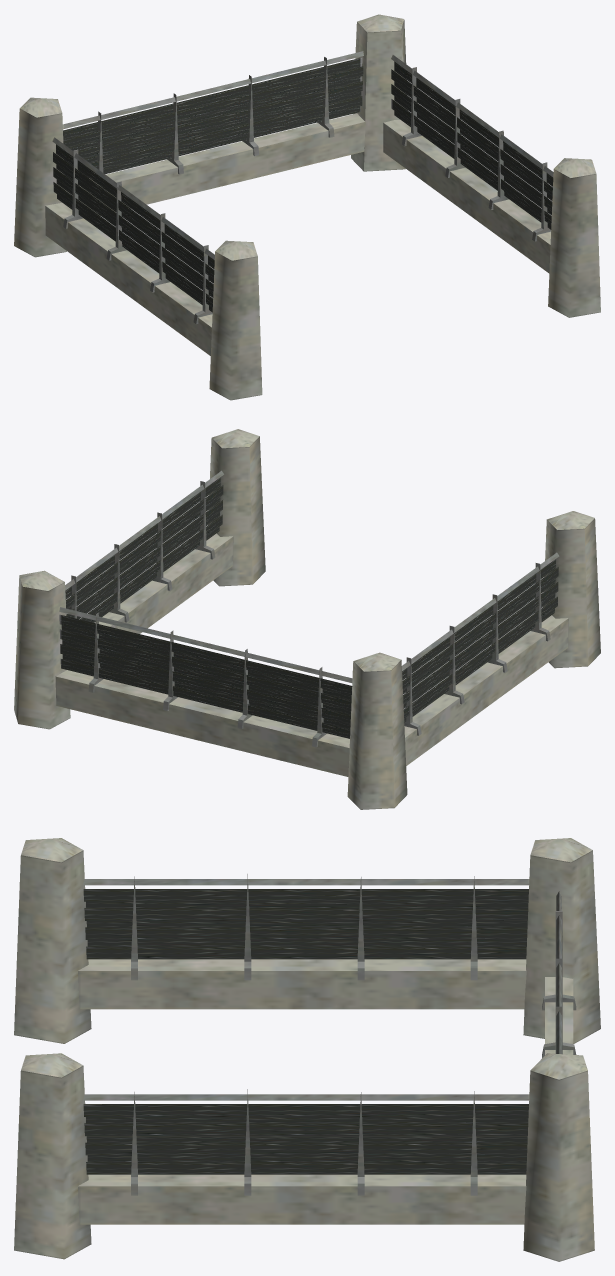
File: poi_all_corral_half_32x32_s05_l1.fbx
3 renders of one model, top to bottom at view 1: azimuth 30°, elevation 25°; view 2: azimuth 150°, elevation 25°; view 3: azimuth 270°, elevation 25°, orthographic. The views are drawn at different scales.
Parts seen in each view (by area): view 1: mesh_node; view 2: mesh_node; view 3: mesh_node.
Boxes of the visible parts, bbox=[...] form: mesh_node: bbox=[14, 14, 600, 400]; mesh_node: bbox=[14, 429, 600, 809]; mesh_node: bbox=[14, 838, 600, 1261].
Size of the model in its own units: 20.74 by 7.4 by 20.74.
